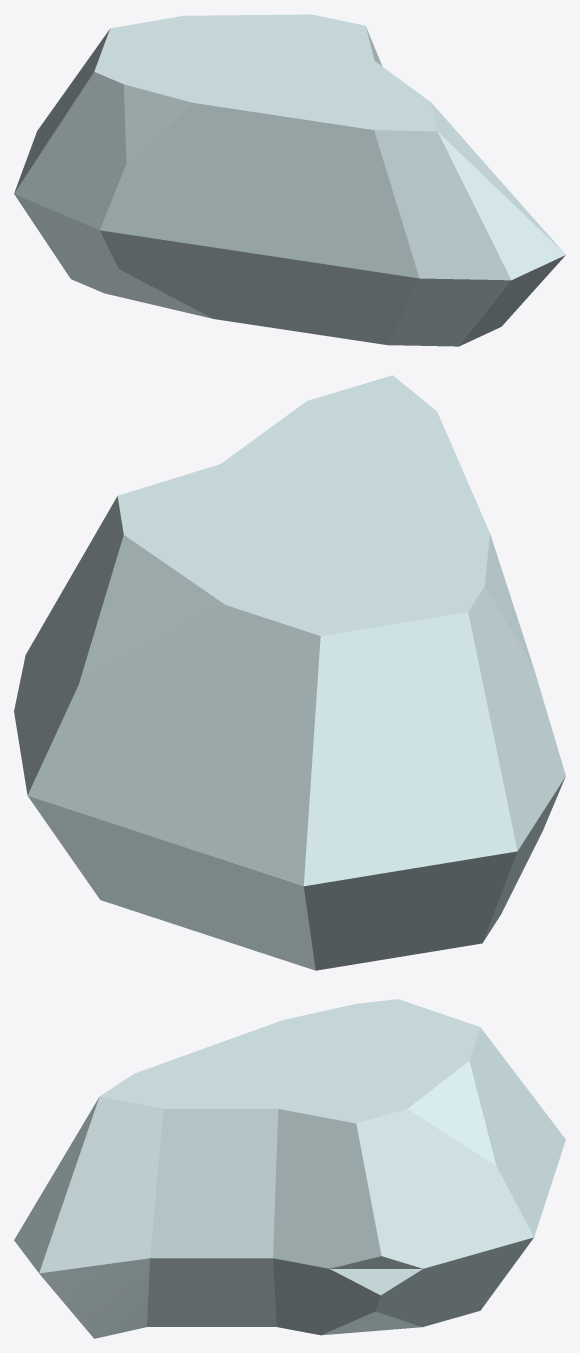
Rendered from stone_largeB.glb.
3 views of the same model, one above another, from view 1: azimuth 30°, elevation 25°; view 2: azimuth 150°, elevation 25°; view 3: azimuth 270°, elevation 25° (orthographic). The views are drawn at different scales.
Parts seen in each view (by area): view 1: stone_largeB; view 2: stone_largeB; view 3: stone_largeB.
Boxes of the visible parts, bbox=[...] form: stone_largeB: bbox=[14, 14, 565, 346]; stone_largeB: bbox=[14, 375, 565, 970]; stone_largeB: bbox=[14, 999, 565, 1338].
Size of the model in its own units: 0.7667 by 0.4303 by 1.02.
1 material, 1 textured.
